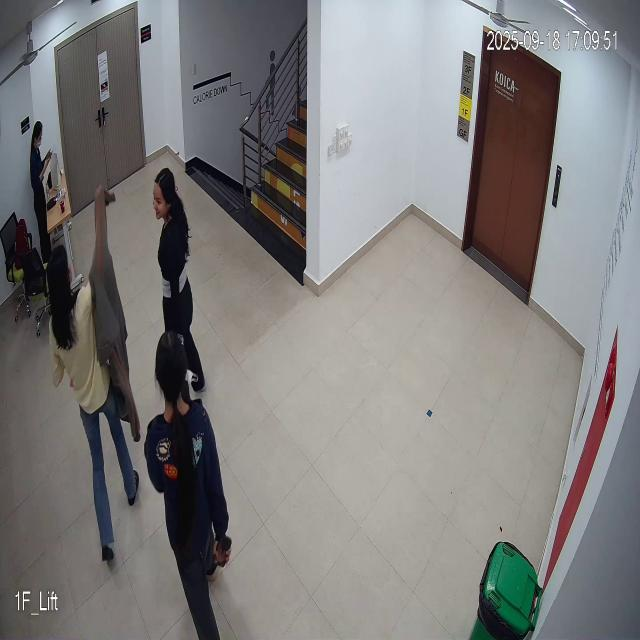face: (148, 166, 178, 228)
